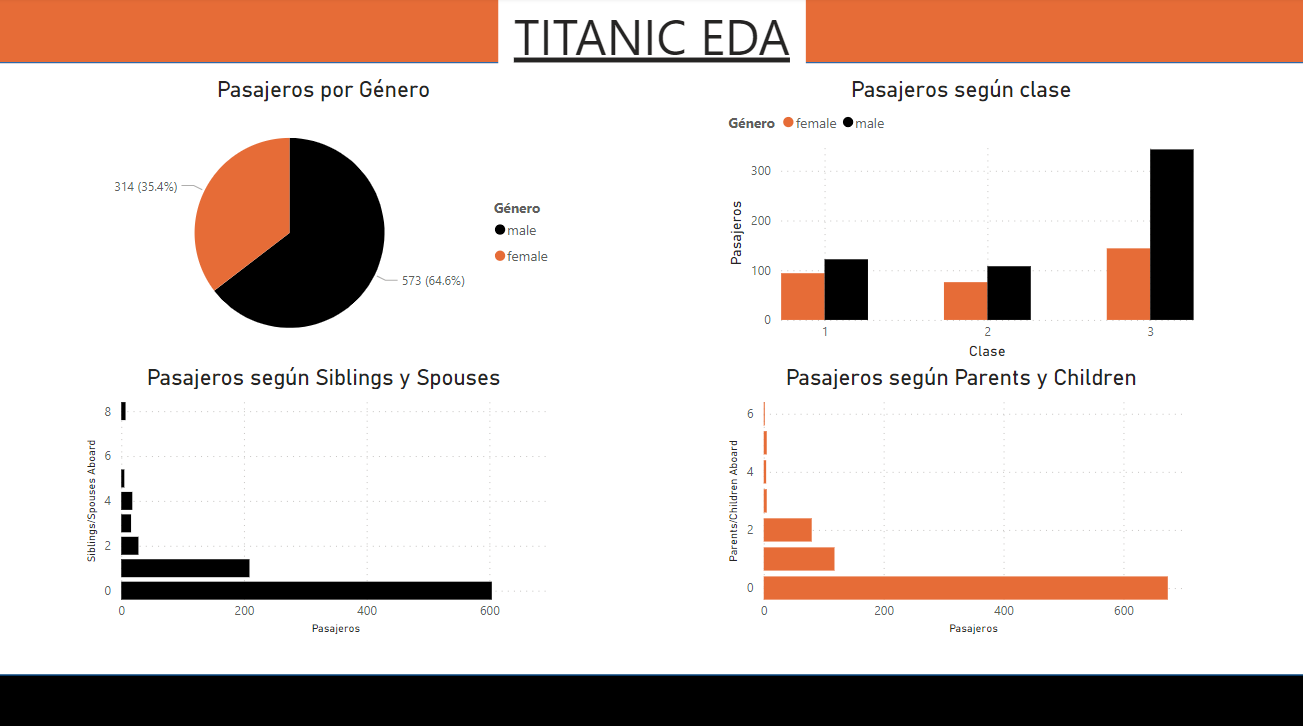

This screenshot's page, from the dashboard's own definition file:
{"tool":"powerbi","page":{"name":"PRÁCTICA1","canvas":[1280,720],"ordinal":0},"visuals":[{"type":"pieChart","title":"Pasajeros por Género","fields":{"Category":["titanic.Sex"],"Y":["CountNonNull(titanic.Sex)"]},"box":[82.3,78.2,474.8,281.3],"z":0},{"type":"clusteredColumnChart","title":"Pasajeros según clase","fields":{"Y":["CountNonNull(titanic.Pclass)"],"Category":["titanic.Pclass"],"Series":["titanic.Sex"]},"box":[710.8,78.2,465.2,281.3],"z":1000},{"type":"clusteredBarChart","title":"Pasajeros según Siblings y Spouses","fields":{"Category":["titanic.Siblings/Spouses Aboard"],"Y":["CountNonNull(titanic.Siblings/Spouses Aboard)"]},"box":[82.3,359.5,474.8,269],"z":2000},{"type":"clusteredBarChart","title":"Pasajeros según Parents y Children","fields":{"Category":["titanic.Parents/Children Aboard"],"Y":["CountNonNull(titanic.Parents/Children Aboard)"]},"box":[710.8,359.5,465.2,269],"z":3000},{"type":"shape","box":[0,663,1280.3,56.6],"z":4000},{"type":"shape","box":[0,0,1280.3,64.7],"z":5000},{"type":"textbox","box":[490.5,0,300.5,82.2],"z":6000}]}

Visuals, with their boxes in screenshot pixels (x1, y1, x2, y2), scaled from the page's 1280x720 canvas onto the 1303x726 screenshot:
"Pasajeros por Género" pieChart: BBox(84, 79, 567, 362)
"Pasajeros según clase" clusteredColumnChart: BBox(724, 79, 1197, 362)
"Pasajeros según Siblings y Spouses" clusteredBarChart: BBox(84, 362, 567, 634)
"Pasajeros según Parents y Children" clusteredBarChart: BBox(724, 362, 1197, 634)
shape: BBox(0, 669, 1302, 725)
shape: BBox(0, 0, 1302, 65)
textbox: BBox(499, 0, 805, 83)
